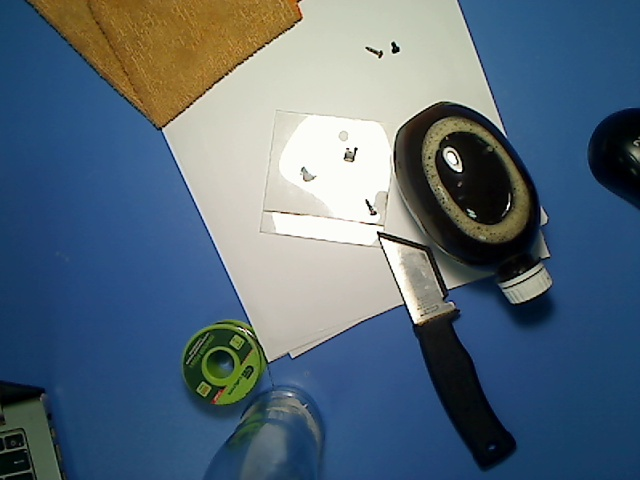plast_bottle: (390, 98, 560, 308)
